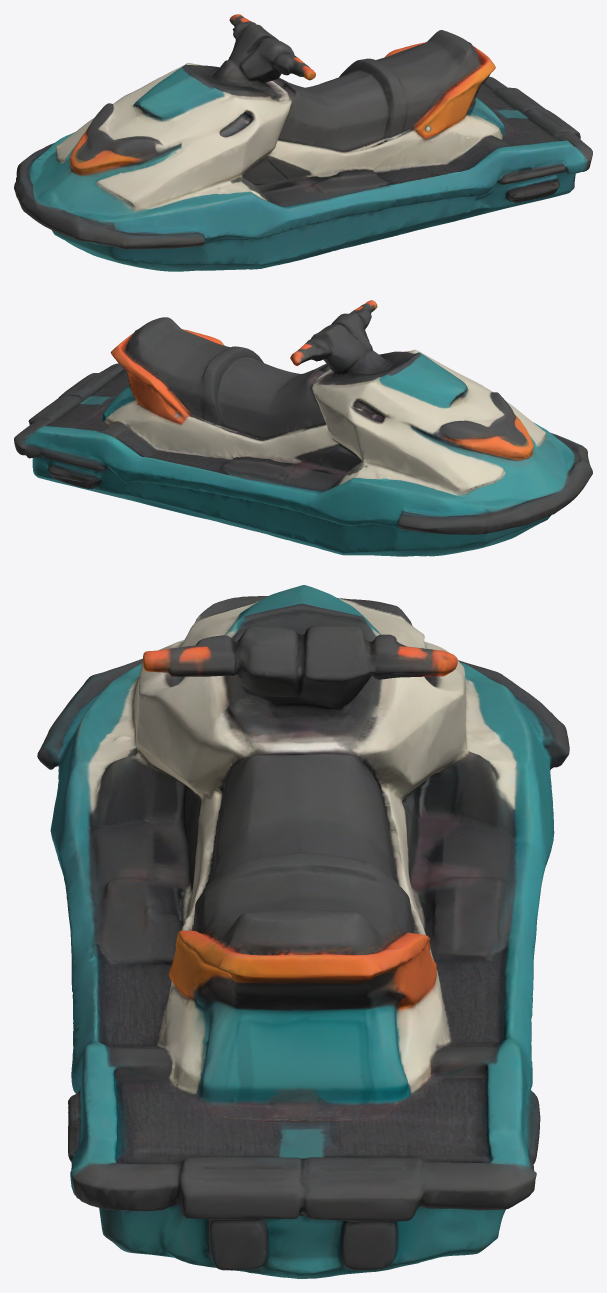
File: azure_wave_jetski.glb
3 renders of one model, top to bottom at view 1: azimuth 30°, elevation 25°; view 2: azimuth 150°, elevation 25°; view 3: azimuth 270°, elevation 25°, orthographic. The views are drawn at different scales.
Parts seen in each view (by area): view 1: AzureWaveJetSki; view 2: AzureWaveJetSki; view 3: AzureWaveJetSki.
Boxes of the visible parts, x1=… form: AzureWaveJetSki: x1=14, y1=14, x2=592, y2=271; AzureWaveJetSki: x1=14, y1=300, x2=592, y2=556; AzureWaveJetSki: x1=37, y1=585, x2=569, y2=1278.
Size of the model in its own units: 2 by 0.7454 by 0.8994.
1 material, 1 textured.
